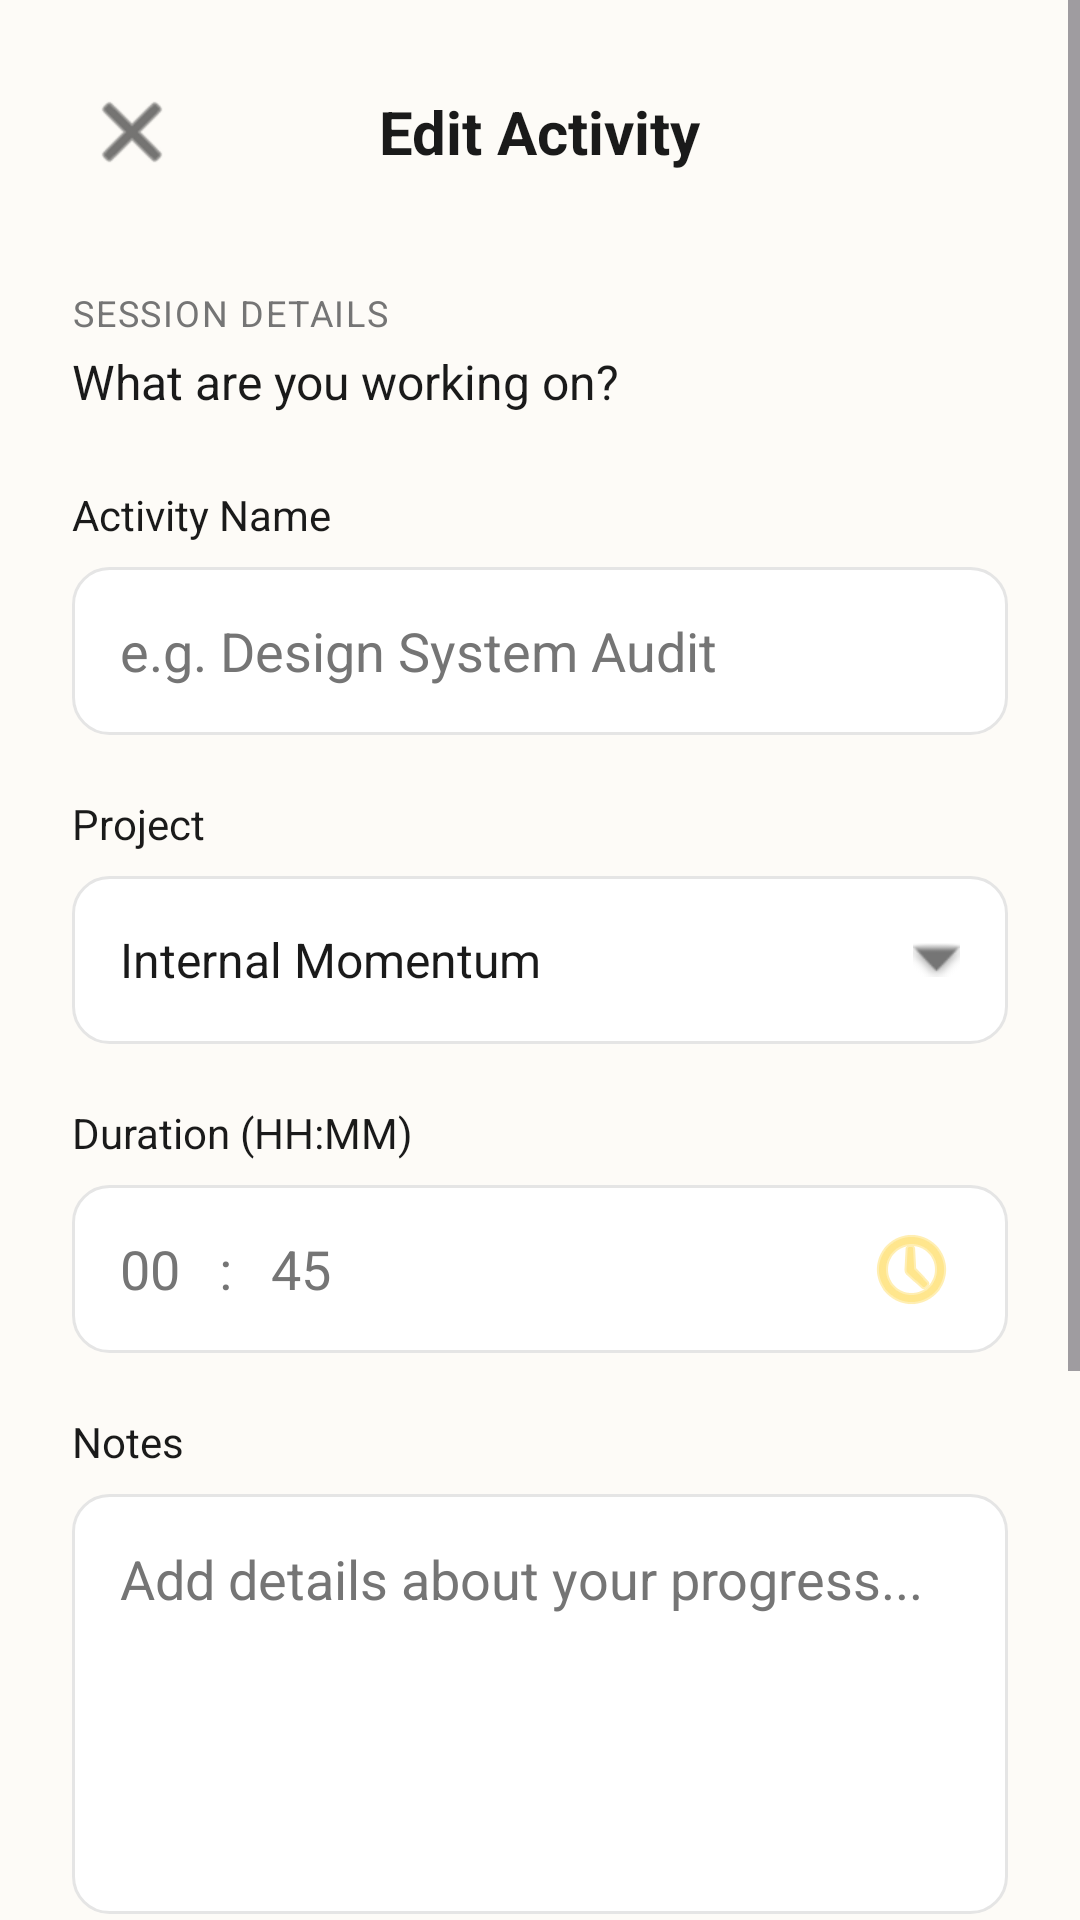

Where icons sit on this 1080w x 1920h app screen, as Rect(x1, y1, x2, y2):
close clear cancel: Rect(102, 102, 162, 162)
